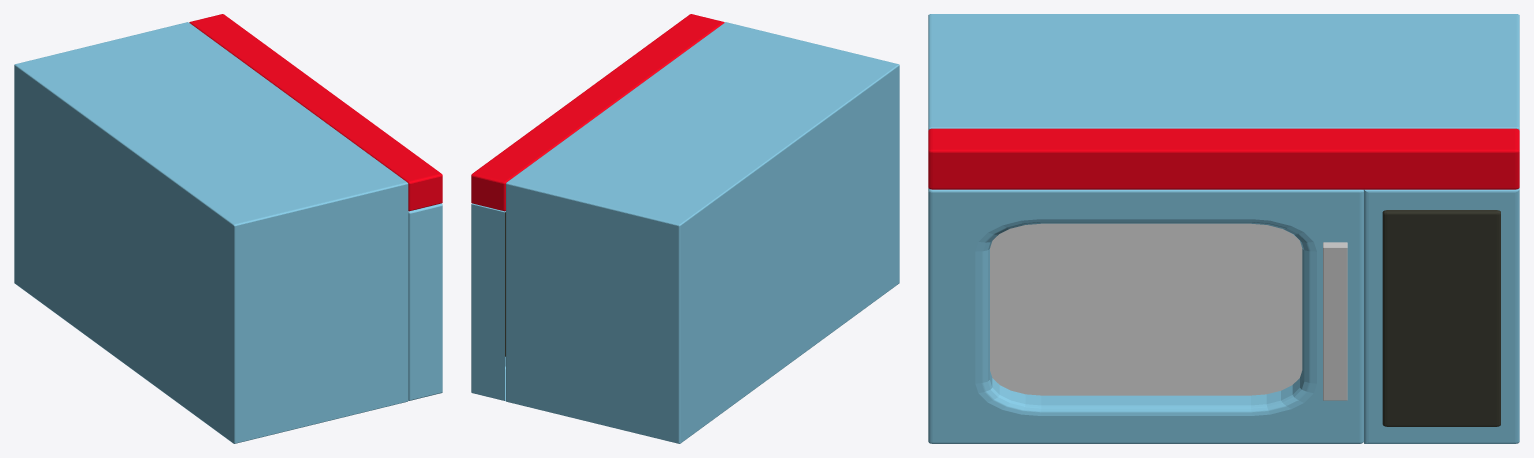
The model's file is mikrodalgaCELSHADED.fbx.
The picture shows the model from 3 angles, left to right: view 1: azimuth 30°, elevation 25°; view 2: azimuth 150°, elevation 25°; view 3: azimuth 270°, elevation 25°; orthographic projection. The views are drawn at different scales.
Visible parts, largest first — view 1: Cube.001, Cube.003, Cube.004; view 2: Cube.001, Cube.003, Cube.002; view 3: Cube.001, Cube.004, Cube.005, Cube.002, Cube.003.
Boxes of the visible parts, x1,y1,x2,y2 form: Cube.001: (14,22,408,443); Cube.003: (189,14,442,211); Cube.004: (408,203,442,400); Cube.001: (506,22,899,443); Cube.003: (471,14,724,211); Cube.002: (471,203,505,401); Cube.001: (928,14,1519,130); Cube.004: (928,188,1363,443); Cube.005: (990,223,1302,395); Cube.002: (1364,188,1519,443); Cube.003: (928,128,1519,189).
Size of the model in its own units: 208 by 200 by 364.
